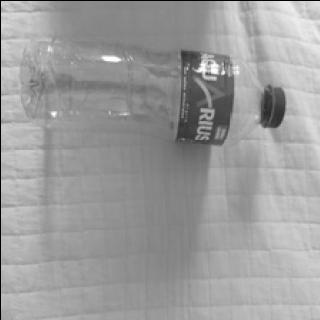plastic_bottles: (15, 29, 289, 150)
